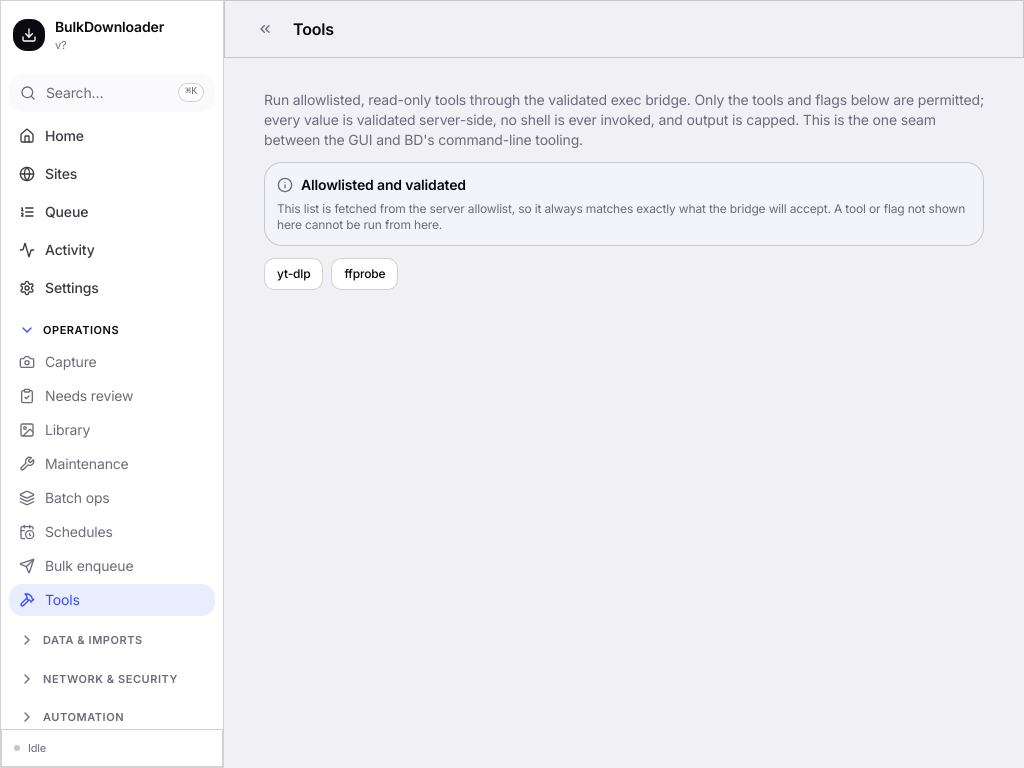
F1 Tools › F1 control: a run on the same tool shows its output
Click the button "yt-dlp" at (294, 274), box [264,258,323,290]
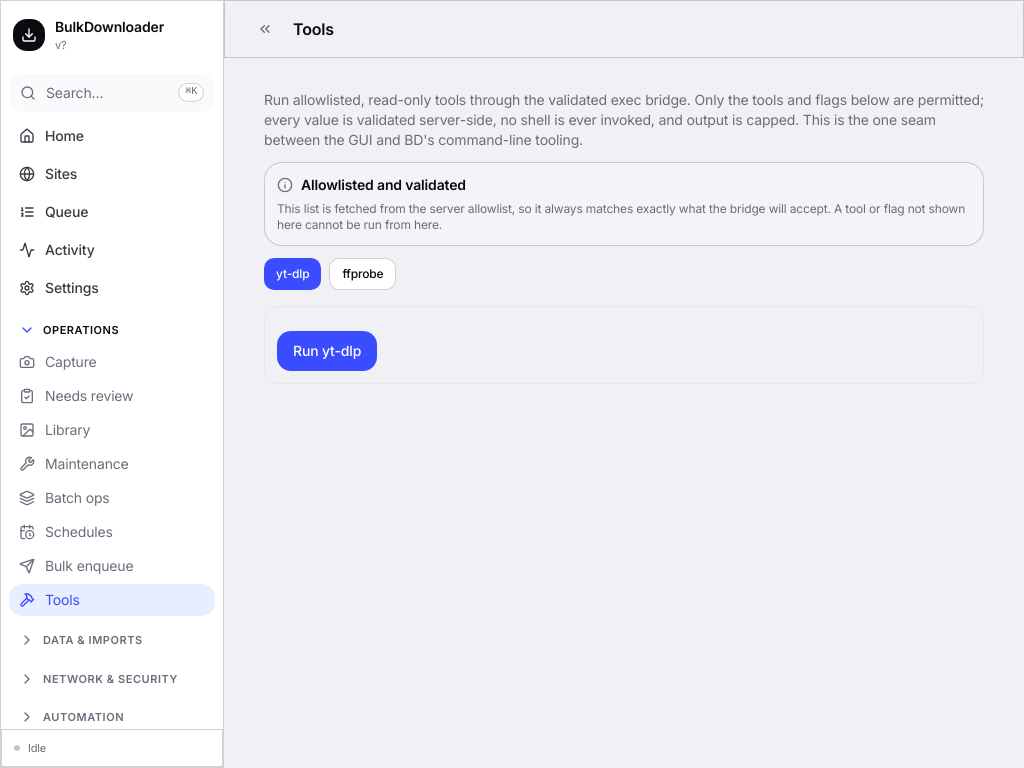
Click the button "Run yt-dlp" at (327, 351), box [277,331,377,371]
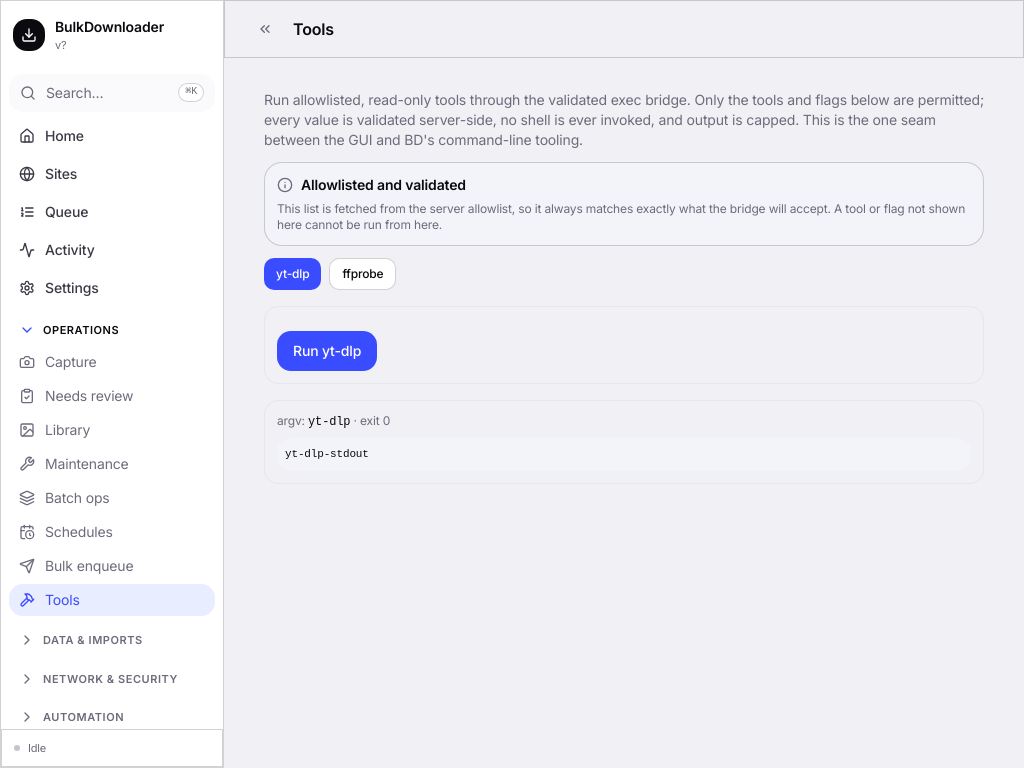
Expected: the text "yt-dlp-stdout" is shown, [277,438,971,470]
